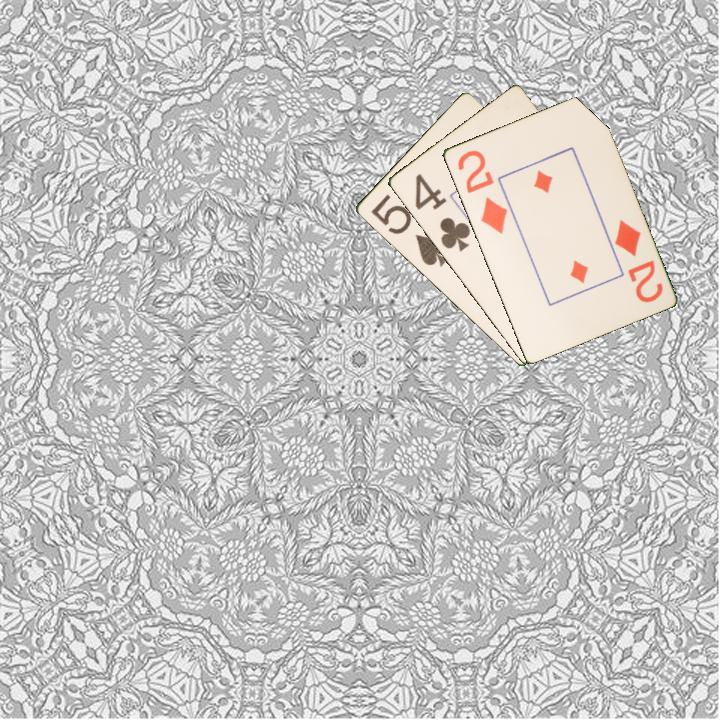2d: (454, 146, 510, 237), (610, 216, 666, 305)
4c: (411, 170, 473, 255)
5s: (367, 191, 451, 270)
